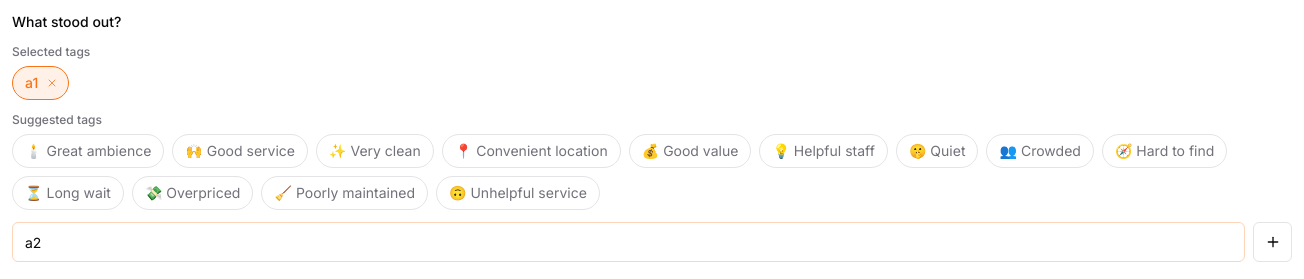
Test: UnifiedTagSelector (curated adapter) › stood_out allows all 5 slots to be custom, then blocks new picks but allows removal
Earlier steps of the test are not shown.
Press Enter in the field named "Add your own tag", box [12, 222, 1245, 262]
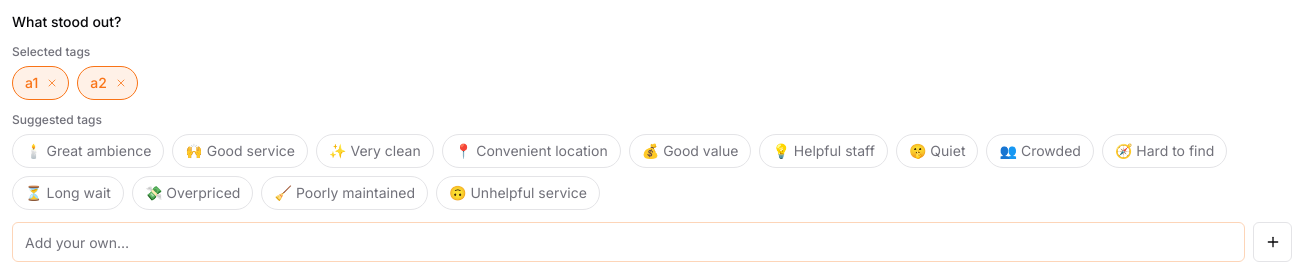
Type "a3" into the field named "Add your own tag".
click(629, 242); type("a3")  # box [12, 222, 1245, 262]
Press Enter in the field named "Add your own tag", box [12, 222, 1245, 262]
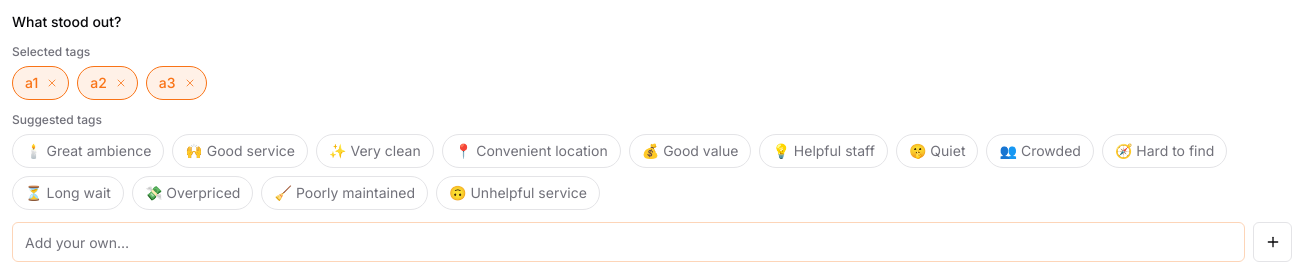
Type "a4" into the field named "Add your own tag".
click(629, 242); type("a4")  # box [12, 222, 1245, 262]
Press Enter in the field named "Add your own tag", box [12, 222, 1245, 262]
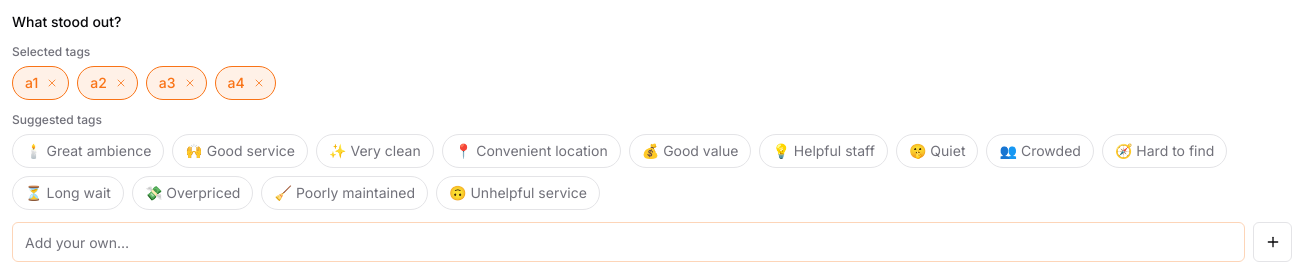
Type "a5" into the field named "Add your own tag".
click(629, 242); type("a5")  # box [12, 222, 1245, 262]
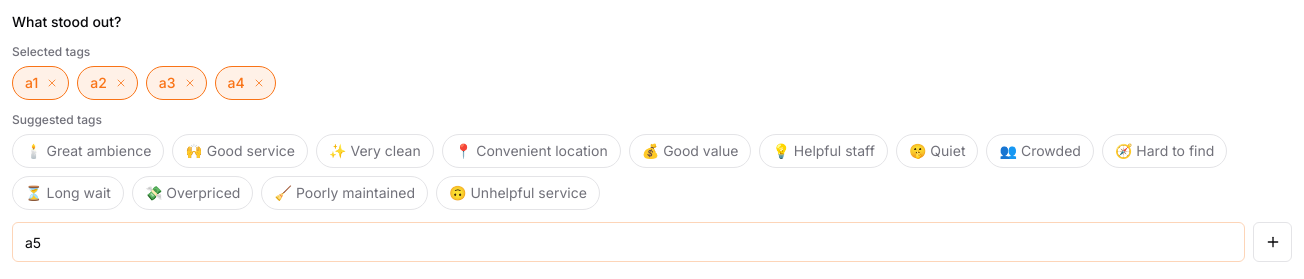
Press Enter in the field named "Add your own tag", box [12, 222, 1245, 262]
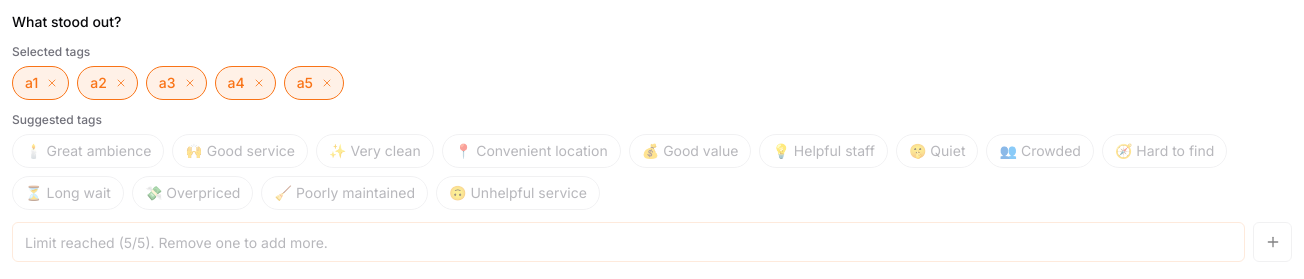
Check: the field named "Add your own tag" is disabled, box [12, 222, 1245, 262]
Check: the button "🕯️Great ambience" is disabled, box [12, 134, 164, 168]
Click the button named "Remove a3".
click(190, 83)  # box [182, 75, 198, 91]
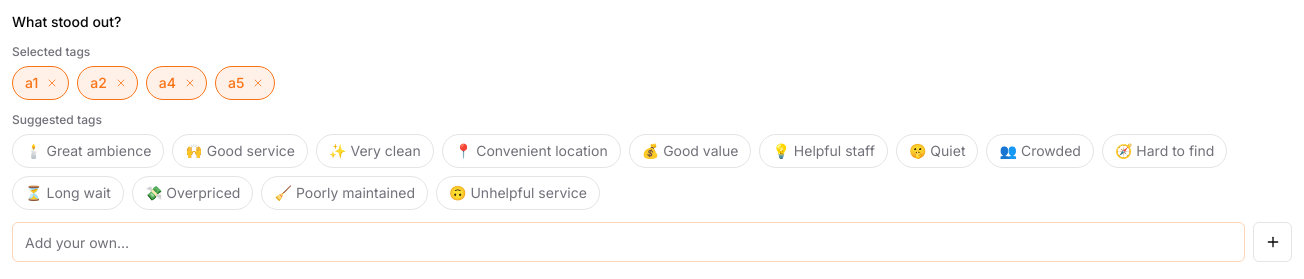
Check: the field named "Add your own tag" is enabled, box [12, 222, 1245, 262]
